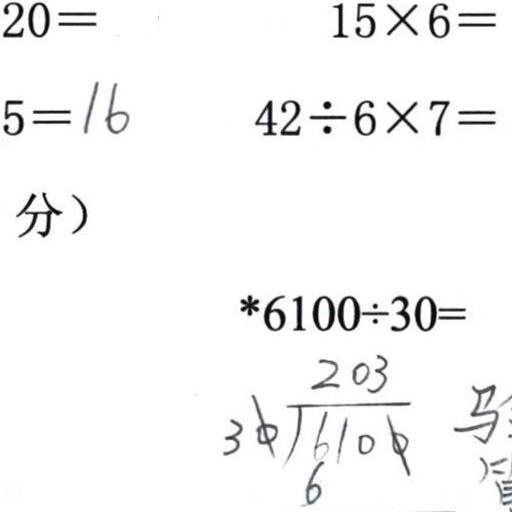ans: (77, 75, 129, 135)
